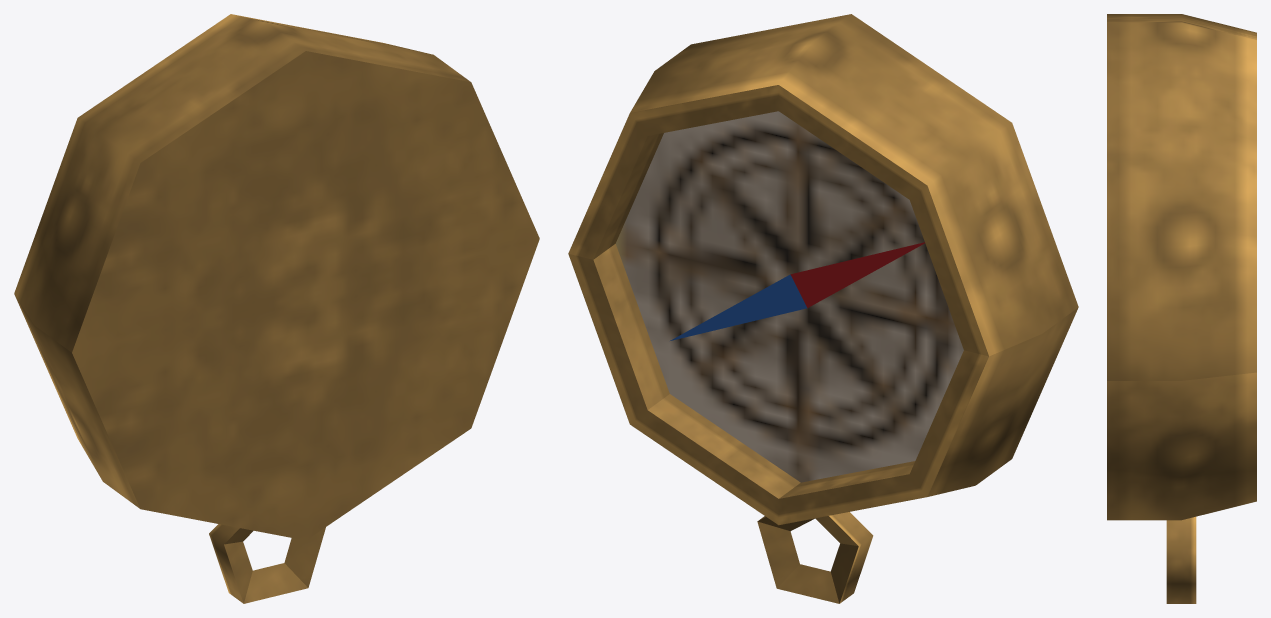
File: Compass_B.fbx
3 renders of one model, left to right at view 1: azimuth 30°, elevation 25°; view 2: azimuth 150°, elevation 25°; view 3: azimuth 270°, elevation 25°, orthographic. The views are drawn at different scales.
Parts seen in each view (by area): view 1: Compass_B; view 2: Compass_B; view 3: Compass_B.
Boxes of the visible parts, x1,y1,x2,y2 form: Compass_B: [14, 14, 539, 603]; Compass_B: [568, 14, 1078, 603]; Compass_B: [1107, 14, 1256, 603].
Size of the model in its own units: 0.3081 by 0.3567 by 0.0856.
